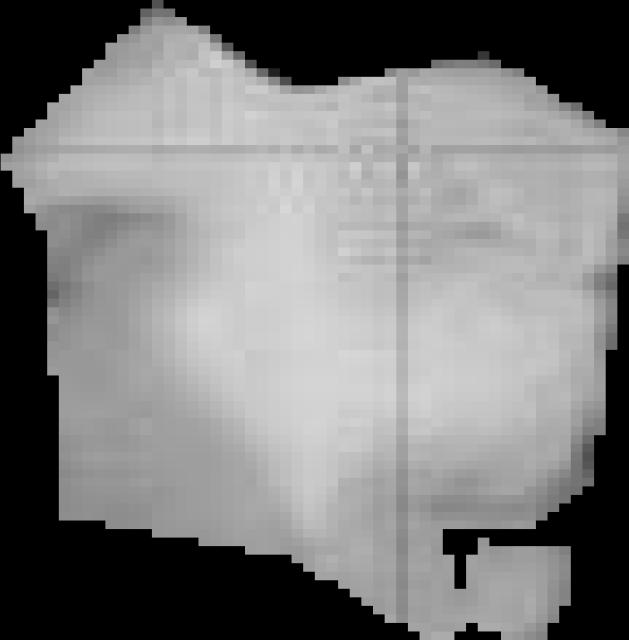tumor_good_chance: (1, 0, 629, 640)
